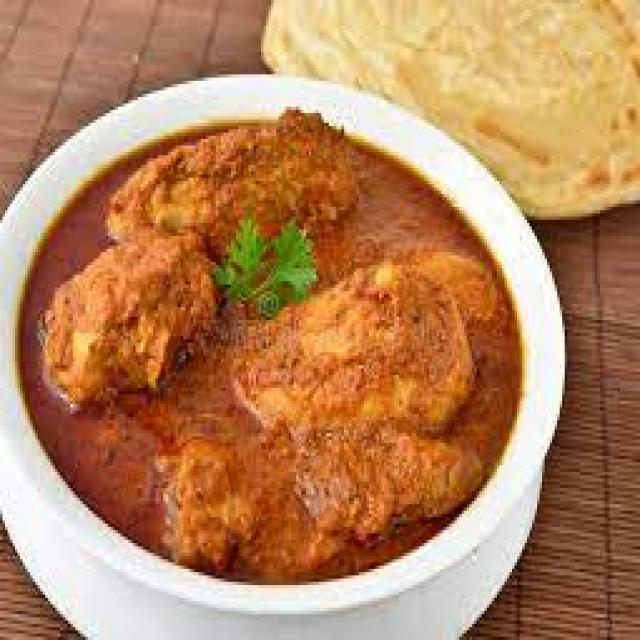Chicken Curry: (20, 94, 497, 578)
